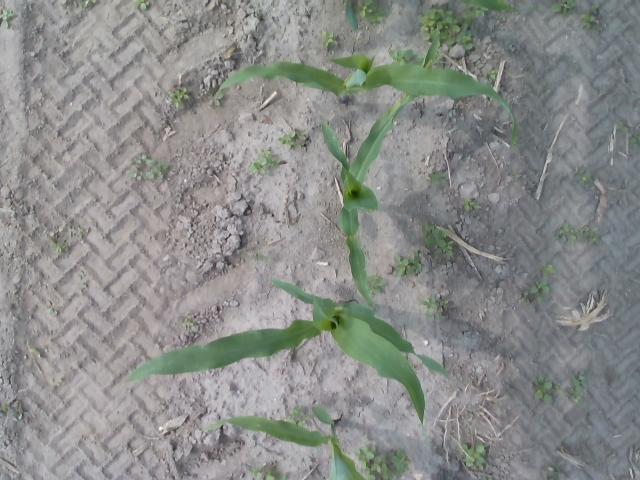Maize: (122, 279, 453, 427), (320, 24, 441, 320), (214, 55, 518, 146), (210, 406, 368, 480), (343, 0, 518, 32)
Weeds: (420, 8, 460, 46), (248, 148, 280, 175), (422, 218, 448, 250), (461, 443, 486, 469), (533, 374, 553, 402), (570, 371, 588, 402), (250, 465, 282, 480), (371, 456, 391, 479), (390, 449, 410, 472), (286, 405, 310, 423), (146, 160, 166, 180), (529, 277, 550, 295), (580, 8, 598, 28), (551, 0, 575, 15), (48, 237, 68, 254), (170, 87, 188, 105), (354, 445, 374, 461), (421, 296, 437, 316), (457, 30, 473, 50), (409, 250, 422, 273), (581, 226, 598, 243), (322, 30, 340, 46), (368, 276, 384, 294), (435, 241, 453, 257), (368, 6, 386, 22), (389, 50, 413, 61), (357, 0, 372, 17), (396, 255, 408, 276), (463, 10, 484, 22), (0, 10, 13, 28), (279, 131, 295, 144), (556, 220, 568, 237), (578, 168, 592, 182), (464, 198, 480, 210), (540, 264, 554, 275), (131, 168, 143, 180), (137, 154, 151, 164), (438, 300, 448, 314), (616, 124, 630, 134), (484, 70, 496, 81), (134, 0, 150, 8), (428, 173, 442, 182), (210, 94, 222, 104), (520, 292, 530, 303), (630, 134, 640, 144), (182, 318, 194, 326), (84, 0, 96, 6), (62, 0, 68, 4)
